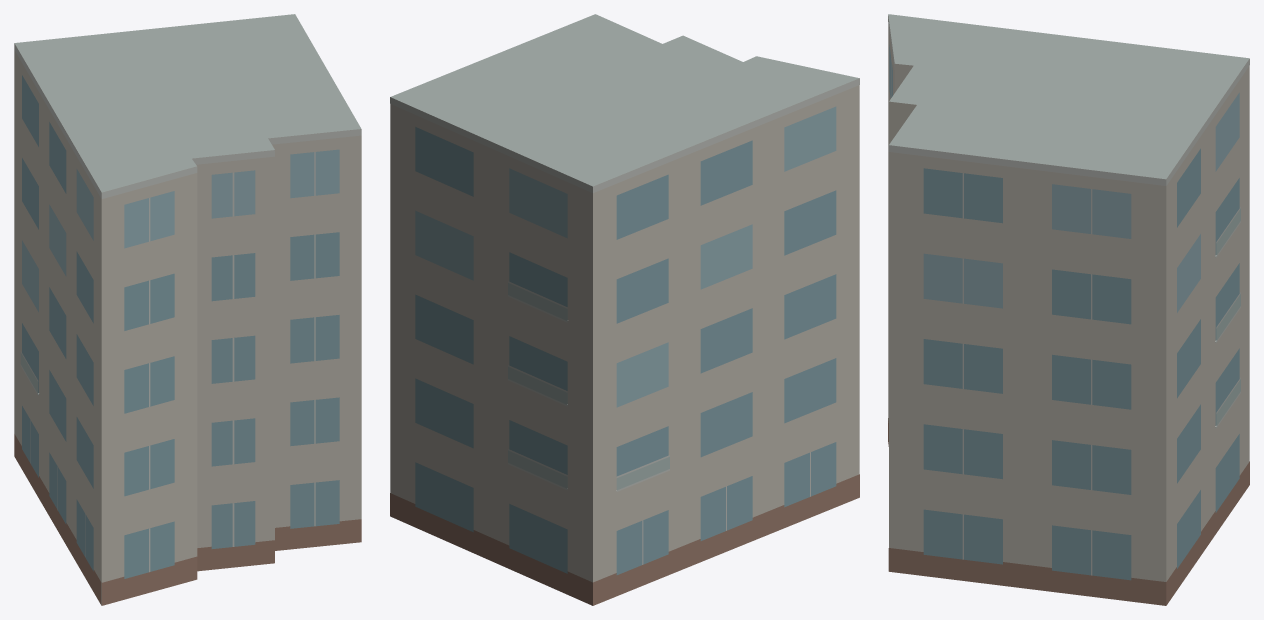
Rendered from survey-upis-32873978.glb.
3 renders of one model, left to right at view 1: azimuth 30°, elevation 25°; view 2: azimuth 150°, elevation 25°; view 3: azimuth 270°, elevation 25°, orthographic. The views are drawn at different scales.
Visible parts, largest first — view 1: survey-upis-32873978.tmp; view 2: survey-upis-32873978.tmp; view 3: survey-upis-32873978.tmp.
Boxes of the visible parts, left/top/right/bottom form: survey-upis-32873978.tmp: left=14, top=14, right=361, bottom=605; survey-upis-32873978.tmp: left=390, top=14, right=859, bottom=605; survey-upis-32873978.tmp: left=888, top=14, right=1249, bottom=605.
Bounding box in the file's own units: 12.68 × 15.25 × 11.73.
